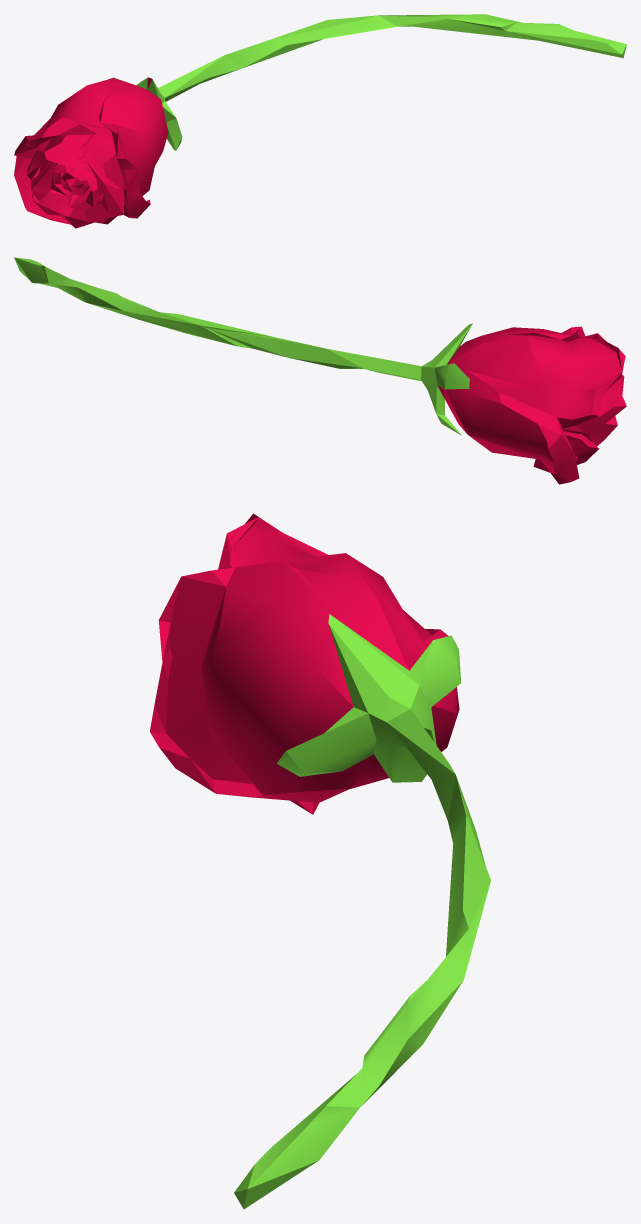
File: rose.glb
The picture shows the model from 3 angles, top to bottom: view 1: azimuth 30°, elevation 25°; view 2: azimuth 150°, elevation 25°; view 3: azimuth 270°, elevation 25°; orthographic projection. The views are drawn at different scales.
Visible parts, largest first — view 1: uploads_files_3977226_粉玫瑰; view 2: uploads_files_3977226_粉玫瑰; view 3: uploads_files_3977226_粉玫瑰.
Boxes of the visible parts, x1,y1,x2,y2 form: uploads_files_3977226_粉玫瑰: [14, 14, 626, 228]; uploads_files_3977226_粉玫瑰: [14, 257, 626, 484]; uploads_files_3977226_粉玫瑰: [150, 513, 490, 1209].
Size of the model in its own units: 1.15 by 0.2413 by 0.2858.
